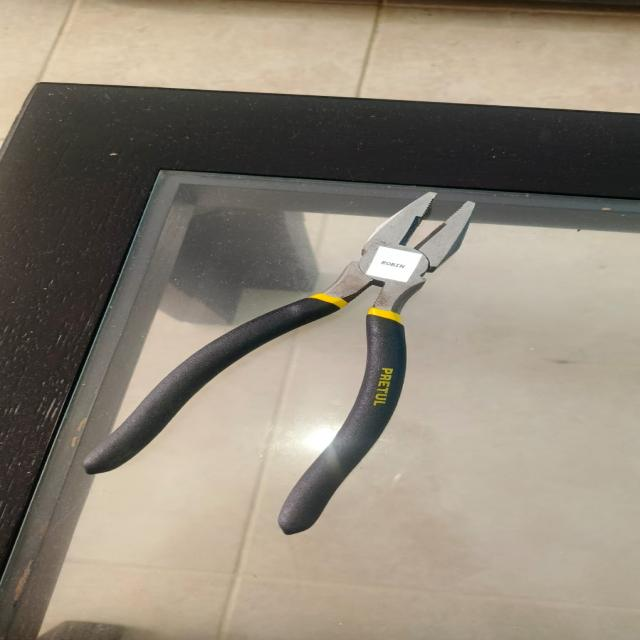alicate: (107, 175, 472, 546)
